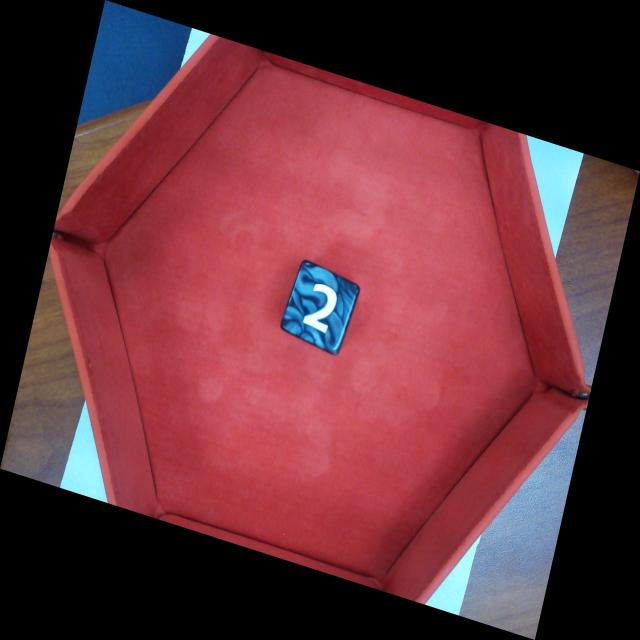dice: (279, 255, 364, 360)
